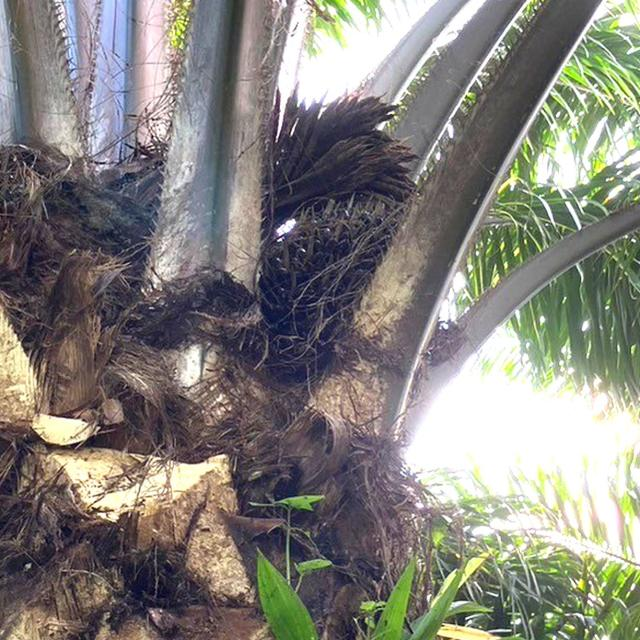unripe: (259, 198, 402, 358)
